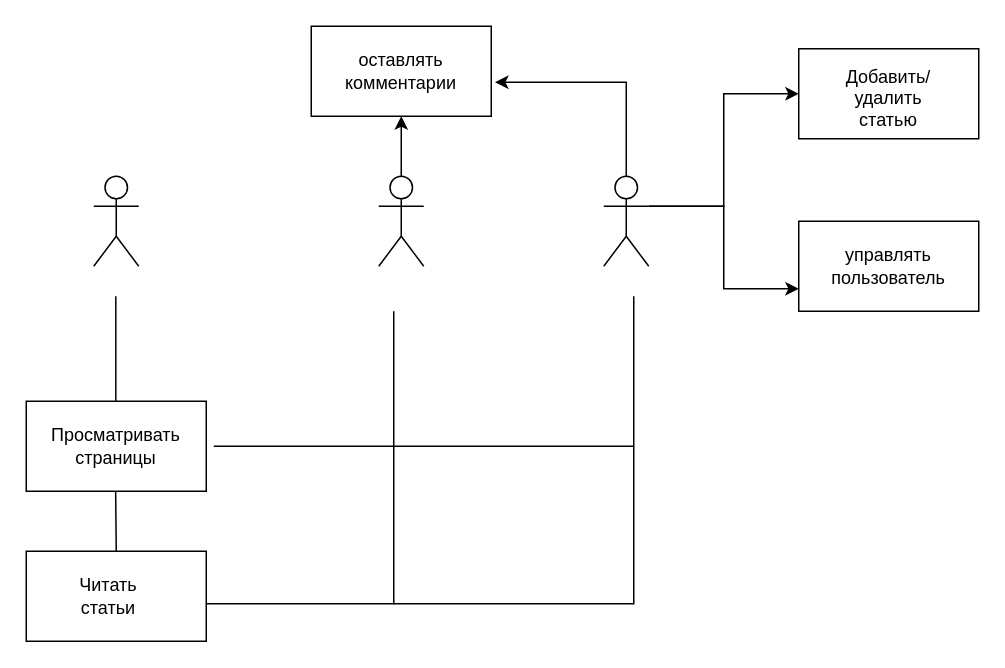
The diagram is 1005 pixels wide and 668 high, and some of its shapes have lost their labels. Here are the shapes that lost their labels. From the top down, the centre of each, then its label:
the point at 115,220: Гость
the point at 400,220: пользователь
the point at 625,220: Администратор
